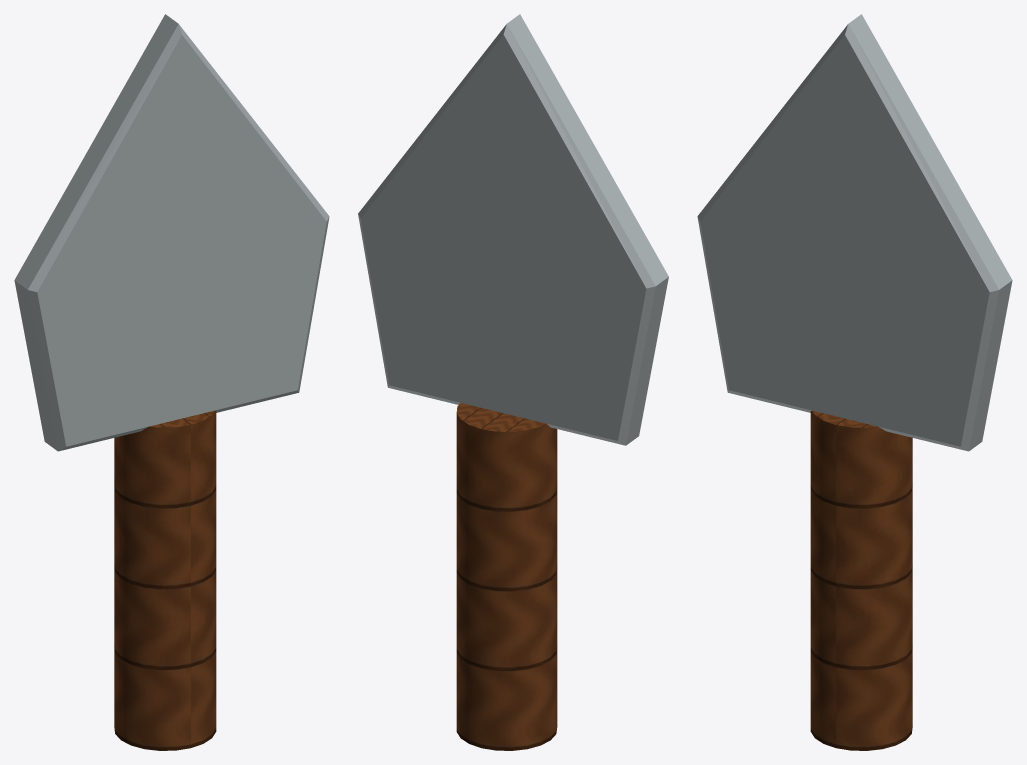
Rendered from prehistoric-expedition-sites-excavation-trowel-a6bcab2f__26098.glb.
3 views of the same model, side by side, from view 1: azimuth 30°, elevation 25°; view 2: azimuth 150°, elevation 25°; view 3: azimuth 330°, elevation 25° (orthographic).
Visible parts, largest first — view 1: excavation-trowel; view 2: excavation-trowel; view 3: excavation-trowel.
Part boxes in pixels (x1,y1,x2,y2): excavation-trowel: [14, 14, 329, 750]; excavation-trowel: [358, 14, 668, 750]; excavation-trowel: [697, 14, 1012, 750].
Bounding box in the file's own units: 0.1564 × 0.3542 × 0.046.
2 materials, 1 textured.
